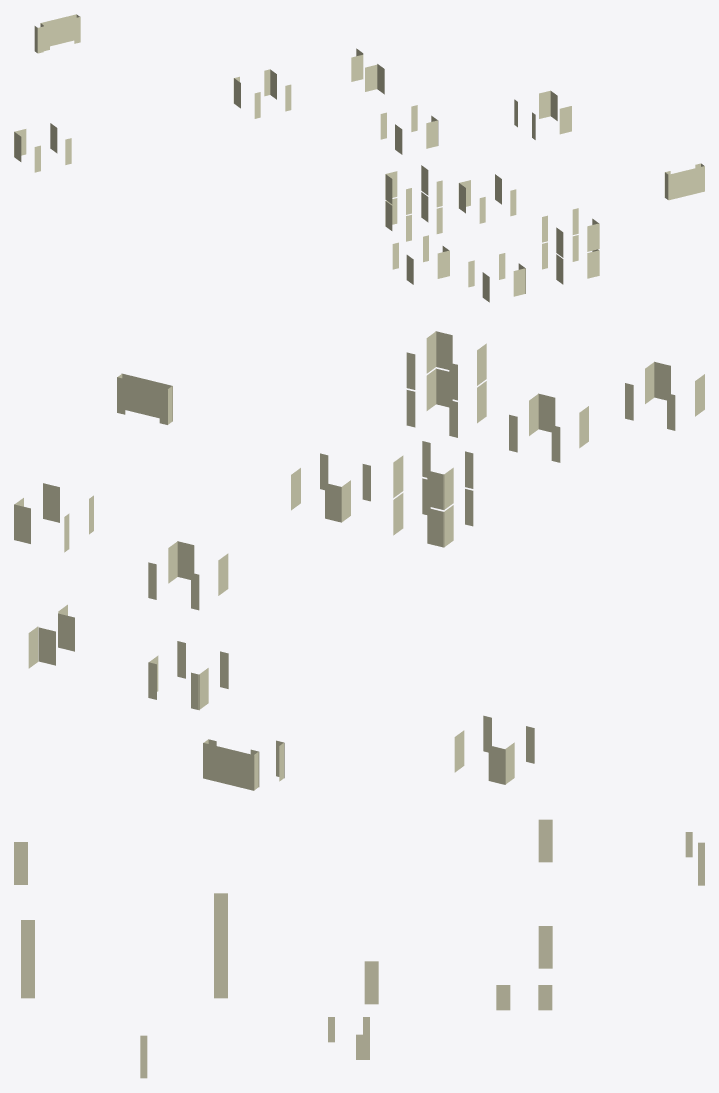
The model's file is object_21_lev2.glb.
3 renders of one model, top to bottom at view 1: azimuth 30°, elevation 25°; view 2: azimuth 150°, elevation 25°; view 3: azimuth 270°, elevation 25°, orthographic. The views are drawn at different scales.
Parts seen in each view (by area): view 1: object_21_lev2; view 2: object_21_lev2; view 3: object_21_lev2.
Part boxes in pixels (x1,y1,x2,y2): object_21_lev2: (14,14,704,302); object_21_lev2: (14,331,704,790); object_21_lev2: (14,819,704,1078).
Bounding box in the file's own units: 54.52 × 7.04 × 68.1.
